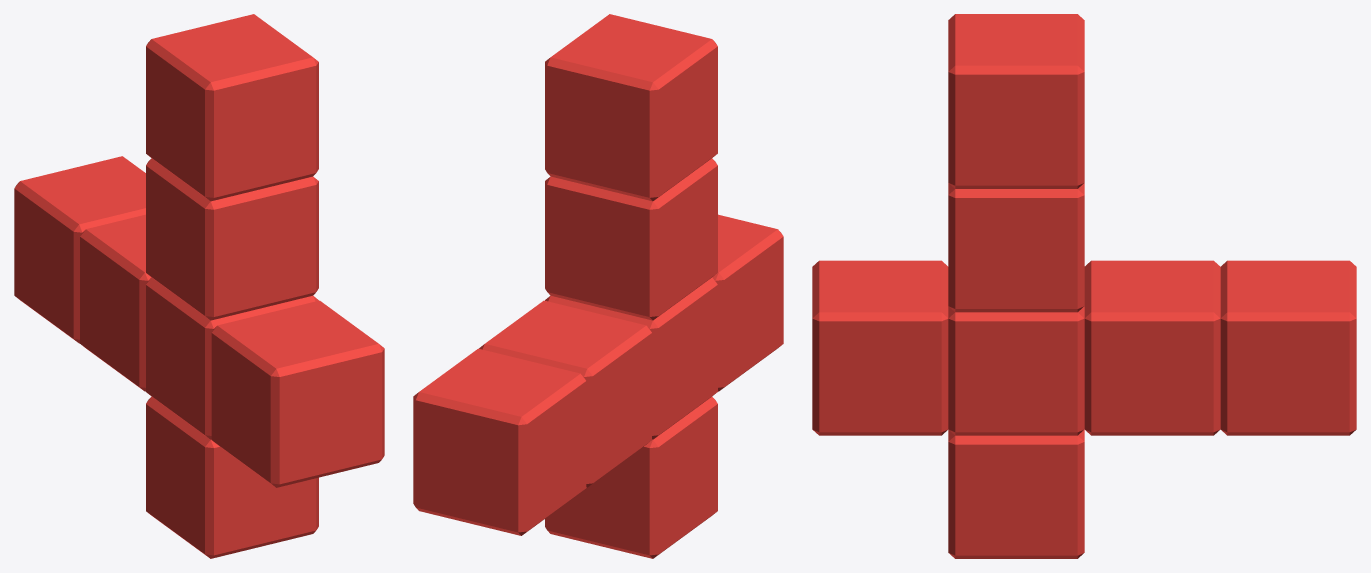
The picture shows the model from 3 angles, left to right: view 1: azimuth 30°, elevation 25°; view 2: azimuth 150°, elevation 25°; view 3: azimuth 270°, elevation 25°; orthographic projection. The views are drawn at different scales.
Visible parts, largest first — view 1: geo1; view 2: geo1; view 3: geo1.
Part boxes in pixels (box(x1,y1,x2,y2)): geo1: box(14, 14, 384, 558); geo1: box(413, 14, 783, 558); geo1: box(812, 14, 1356, 558).
Bounding box in the file's own units: 1 × 4 × 4.
